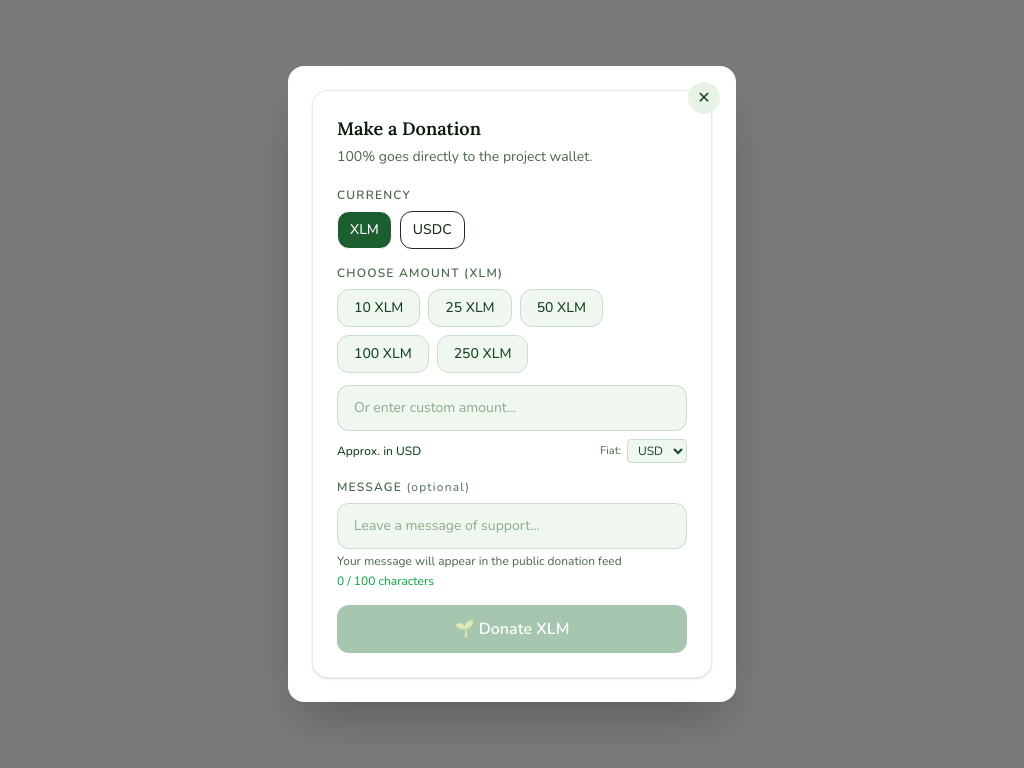
Test case: DonationModal › Donation confirmation flow and states › error state renders the failure message
Step 1. Click the button "10 XLM" → point(379, 308), box [337,289,420,327]
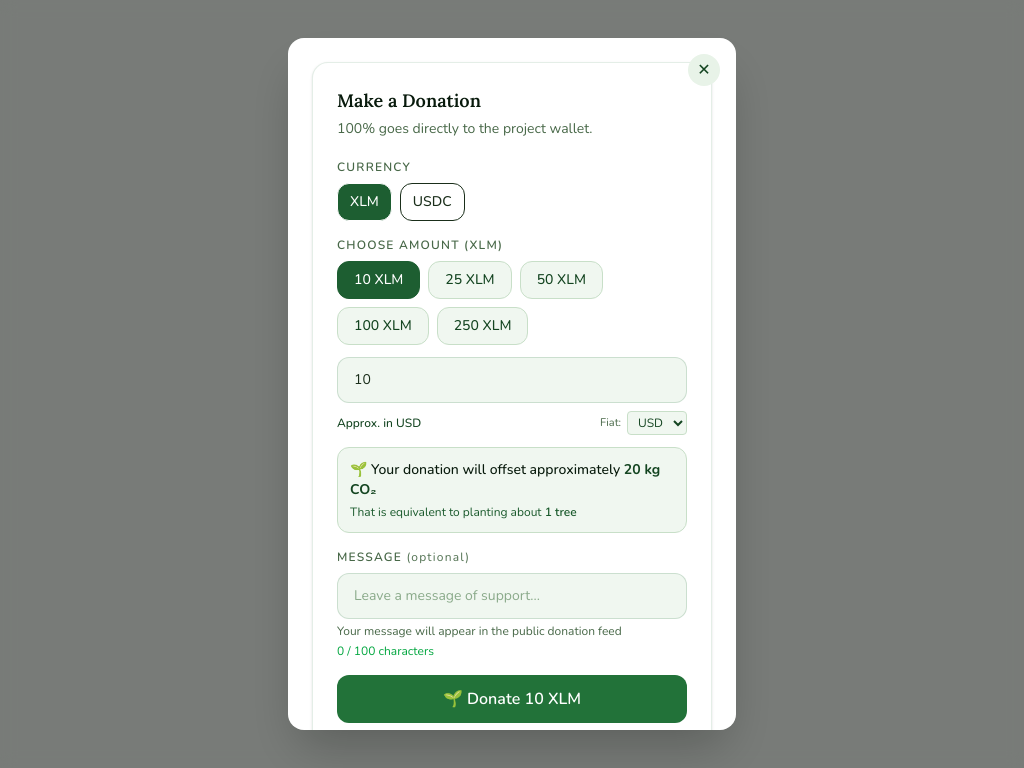
Step 2. Click the button "🌱 Donate 10 XLM" → point(512, 699), box [337,675,687,723]
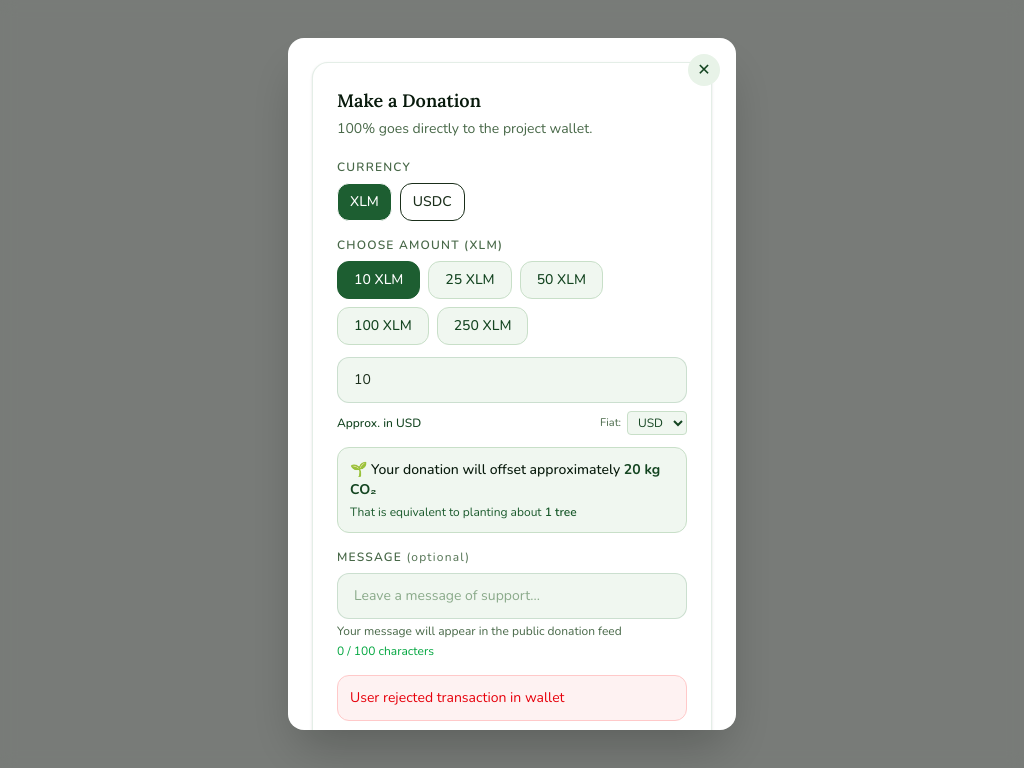
expect the text "User rejected transaction in wallet" is shown: met, box [337,675,687,721]
